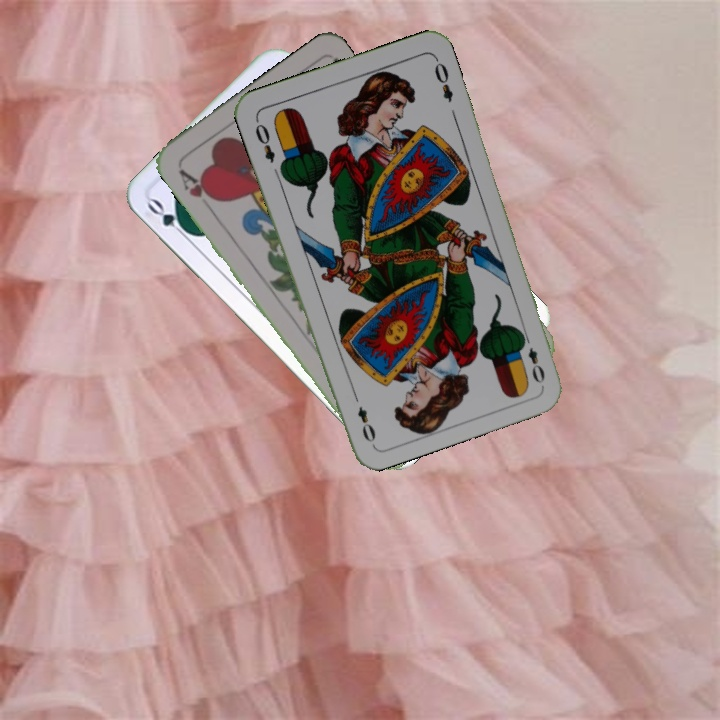EO: (518, 329, 548, 386), (251, 115, 278, 165)
GO: (143, 194, 195, 243)
HA: (174, 165, 220, 214)
